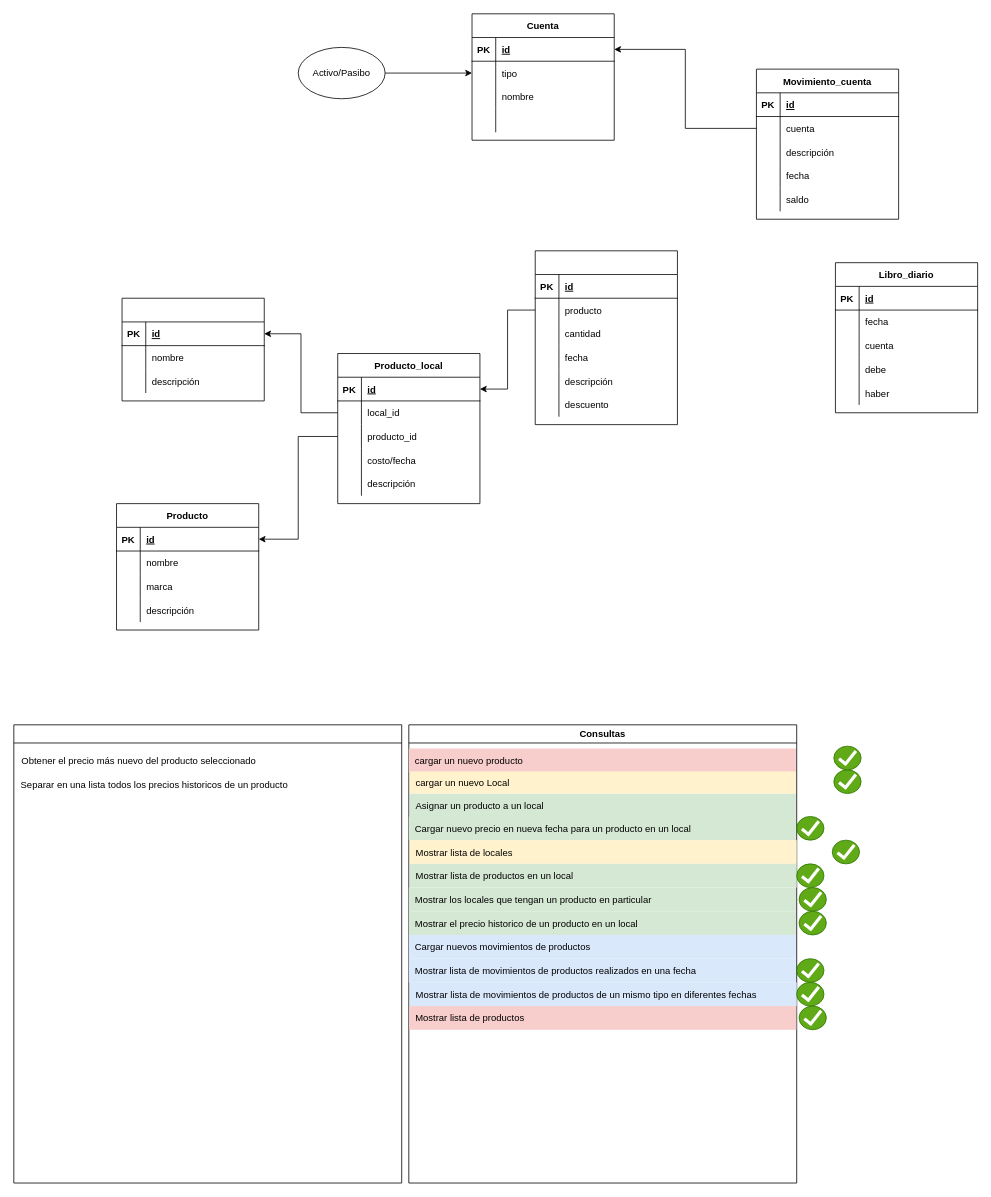
Image size: 991x1197. Some labels were removed from this diagram. Here are the shapes that lost their labels. From the top down, the box of each, then its label:
(121, 297, 264, 401): Local
(534, 250, 677, 425): Movimiento_producto
(13, 724, 402, 1183): Tareas
